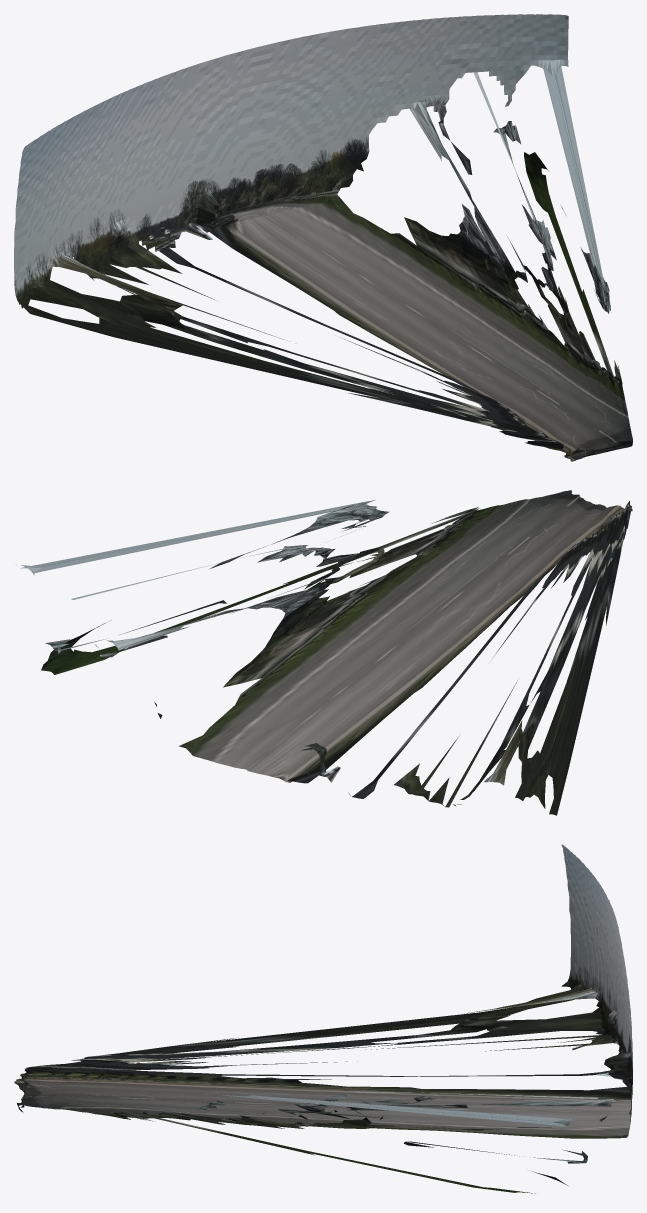
3 renders of one model, top to bottom at view 1: azimuth 30°, elevation 25°; view 2: azimuth 150°, elevation 25°; view 3: azimuth 270°, elevation 25°, orthographic. The views are drawn at different scales.
Visible parts, largest first — view 1: defaultobject; view 2: defaultobject; view 3: defaultobject.
Part boxes in pixels (bbox=[...]): defaultobject: bbox=[14, 14, 632, 461]; defaultobject: bbox=[16, 490, 632, 815]; defaultobject: bbox=[14, 844, 632, 1193].
Bounding box in the file's own units: 41.02 × 13.04 × 44.7.
1 material, 1 textured.
